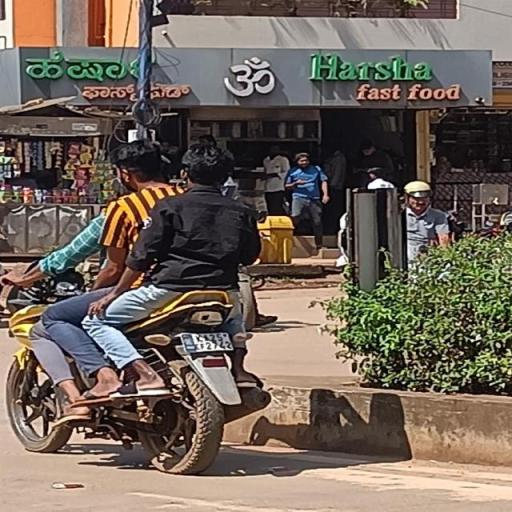tripple riding: (14, 137, 268, 292)
